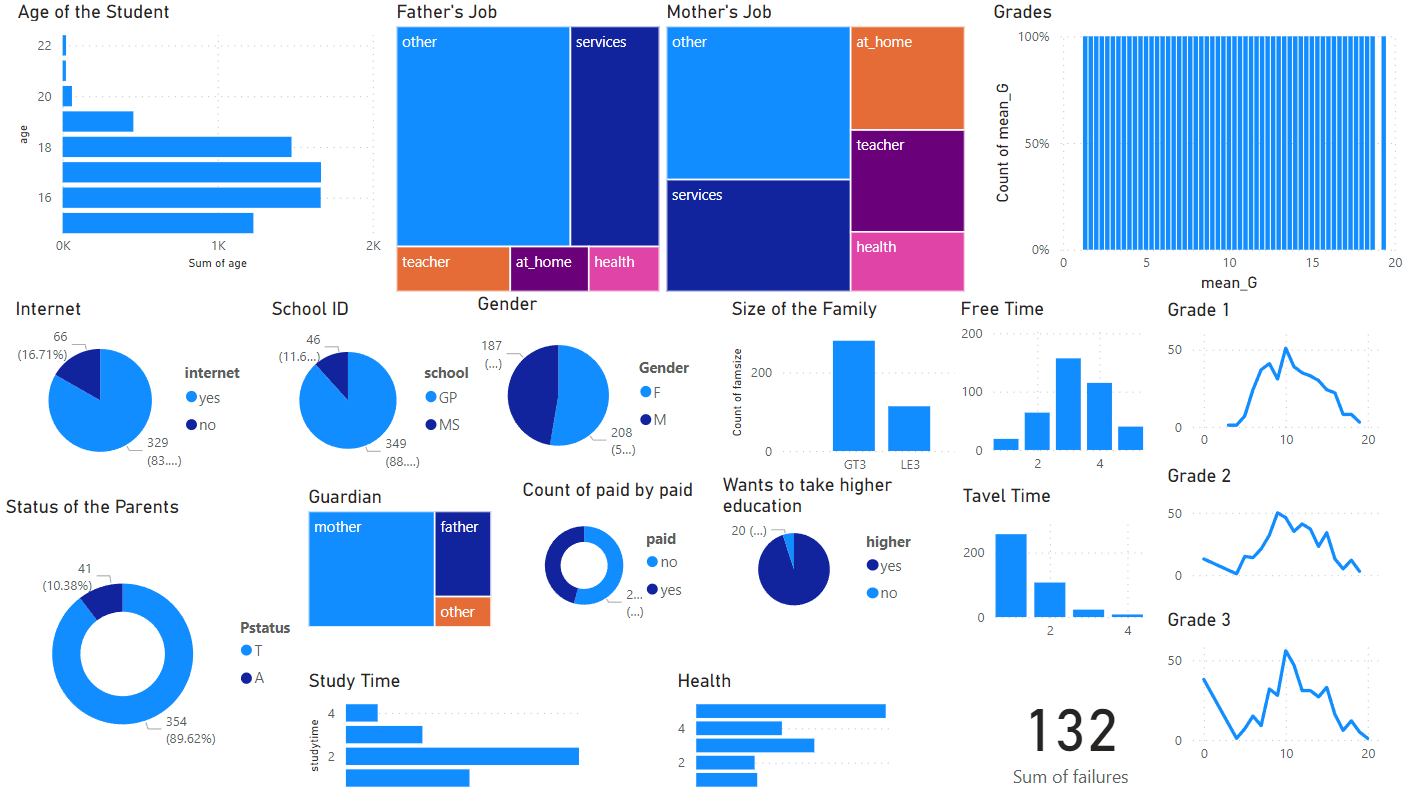

What the dashboard file says about the page in this screenshot:
{"tool":"powerbi","page":{"name":"Page 1","canvas":[1280,720],"ordinal":0},"visuals":[{"type":"clusteredBarChart","title":"Age of the Student","fields":{"Y":["Sum(student_data.age)"],"Category":["student_data.age"]},"box":[10.8,0,345.7,250.2],"z":0},{"type":"donutChart","title":"Status of the Parents ","fields":{"Category":["student_data.Pstatus"],"Y":["CountNonNull(student_data.Pstatus)"]},"box":[0,449.6,288.2,270.4],"z":1000},{"type":"treemap","title":"Father''s Job","fields":{"Group":["student_data.Fjob"],"Values":["CountNonNull(student_data.Fjob)"]},"box":[355.1,0,248.8,270.4],"z":2000},{"type":"treemap","title":"Mother''s Job","fields":{"Values":["CountNonNull(student_data.Mjob)"],"Group":["student_data.Mjob"]},"box":[601.3,0,281.1,270.4],"z":3000},{"type":"treemap","title":"Guardian","fields":{"Group":["student_data.guardian"],"Values":["CountNonNull(student_data.guardian)"]},"box":[275.8,440.7,176.5,133.9],"z":4000},{"type":"pieChart","title":"School ID","fields":{"Category":["student_data.school"],"Y":["CountNonNull(student_data.school)"]},"box":[242.1,270.4,209.8,169.5],"z":5000},{"type":"pieChart","title":"Internet","fields":{"Category":["student_data.internet"],"Y":["CountNonNull(student_data.internet)"]},"box":[9.4,270.4,232.7,169.5],"z":6000},{"type":"card","fields":{"Values":["Sum(student_data.failures)"]},"box":[868.1,614.5,210.1,105.5],"z":7000},{"type":"columnChart","title":"Size of the Family","fields":{"Category":["student_data.famsize"],"Y":["CountNonNull(student_data.famsize)"]},"box":[660,270,238.3,170],"z":8000},{"type":"pieChart","title":"Gender","fields":{"Category":["student_data.sex"],"Y":["CountNonNull(student_data.sex)"]},"box":[429.2,265.1,222.6,169.4],"z":9000},{"type":"clusteredBarChart","title":"Study Time","fields":{"Category":["student_data.studytime"],"Y":["CountNonNull(student_data.studytime)"]},"box":[275.8,608.3,258,111.7],"z":10000},{"type":"clusteredColumnChart","title":"Free Time","fields":{"Y":["CountNonNull(student_data.freetime)"],"Category":["student_data.freetime"]},"box":[868.1,270.4,175.6,169.4],"z":11000},{"type":"donutChart","fields":{"Category":["student_data.paid"],"Y":["CountNonNull(student_data.paid)"]},"box":[470,434.5,170.2,140.1],"z":12000},{"type":"hundredPercentStackedColumnChart","title":"Grades","fields":{"Category":["student_data.mean_G"],"Y":["CountNonNull(student_data.mean_G)"]},"box":[898.3,0,381.7,270],"z":13000},{"type":"columnChart","title":"Tavel Time ","fields":{"Category":["student_data.traveltime"],"Y":["CountNonNull(student_data.traveltime)"]},"box":[869.9,439.8,173.8,150.7],"z":14000},{"type":"pieChart","title":"Wants to take higher education","fields":{"Category":["student_data.higher"],"Y":["CountNonNull(student_data.higher)"]},"box":[651.7,430,200.4,136.6],"z":15000},{"type":"lineChart","title":"Grade 1","fields":{"Category":["student_data.G1"],"Y":["CountNonNull(student_data.G1)"]},"box":[1056.1,271.3,202.2,147.2],"z":16000},{"type":"lineChart","title":"Grade 2","fields":{"Category":["student_data.G2"],"Y":["CountNonNull(student_data.G2)"]},"box":[1056.1,422.1,202.2,115.3],"z":17000},{"type":"lineChart","title":"Grade 3","fields":{"Category":["student_data.G3"],"Y":["CountNonNull(student_data.G3)"]},"box":[1056.1,552.4,202.2,149.9],"z":18000},{"type":"clusteredBarChart","title":"Health","fields":{"Category":["student_data.health"],"Y":["CountNonNull(student_data.health)"]},"box":[610.9,608.3,203.9,111.7],"z":19000}]}

Visuals, with their boxes in screenshot pixels (x1, y1, x2, y2), scaled from the page's 1280x720 canvas onto the 1408x791 screenshot:
"Age of the Student" clusteredBarChart: 12, 0, 392, 275
"Status of the Parents " donutChart: 0, 494, 317, 790
"Father''s Job" treemap: 391, 0, 664, 297
"Mother''s Job" treemap: 661, 0, 971, 297
"Guardian" treemap: 303, 484, 498, 631
"School ID" pieChart: 266, 297, 497, 483
"Internet" pieChart: 10, 297, 266, 483
card - Sum(student_data.failures): 955, 675, 1186, 790
"Size of the Family" columnChart: 726, 297, 988, 483
"Gender" pieChart: 472, 291, 717, 477
"Study Time" clusteredBarChart: 303, 668, 587, 790
"Free Time" clusteredColumnChart: 955, 297, 1148, 483
donutChart - student_data.paid x CountNonNull(student_data.paid): 517, 477, 704, 631
"Grades" hundredPercentStackedColumnChart: 988, 0, 1407, 297
"Tavel Time " columnChart: 957, 483, 1148, 649
"Wants to take higher education" pieChart: 717, 472, 937, 622
"Grade 1" lineChart: 1162, 298, 1384, 460
"Grade 2" lineChart: 1162, 464, 1384, 590
"Grade 3" lineChart: 1162, 607, 1384, 772
"Health" clusteredBarChart: 672, 668, 896, 790
